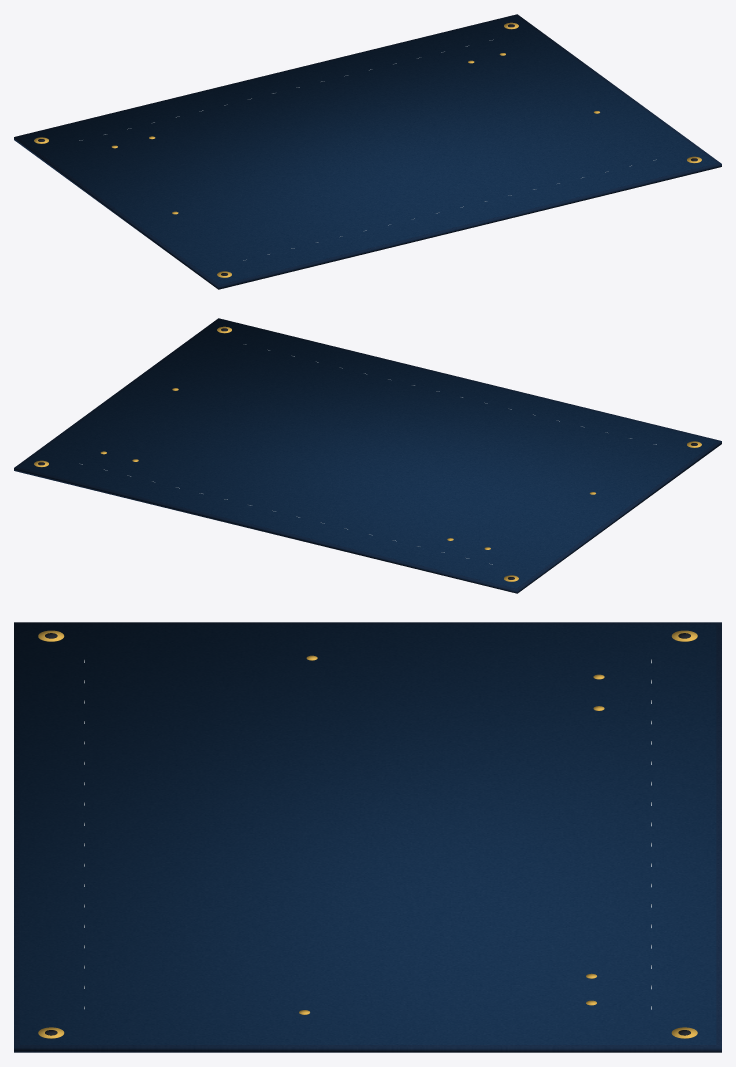
The model's file is 101_L105_PCB_ENX13_270x190mm.obj.
3 views of the same model, one above another, from view 1: azimuth 30°, elevation 25°; view 2: azimuth 150°, elevation 25°; view 3: azimuth 270°, elevation 25° (orthographic). The views are drawn at different scales.
Visible parts, largest first — view 1: PCB_ENX13_270x190mm_mask_1, PCB_ENX13_270x190mm_pcb_0; view 2: PCB_ENX13_270x190mm_mask_1, PCB_ENX13_270x190mm_pcb_0; view 3: PCB_ENX13_270x190mm_mask_1, PCB_ENX13_270x190mm_pcb_0, PCB_ENX13_270x190mm_gold_2.
Part boxes in pixels (x1,y1,x2,y2): PCB_ENX13_270x190mm_mask_1: (18,16,717,284); PCB_ENX13_270x190mm_pcb_0: (14,14,721,289); PCB_ENX13_270x190mm_mask_1: (18,320,717,588); PCB_ENX13_270x190mm_pcb_0: (14,318,721,593); PCB_ENX13_270x190mm_mask_1: (19,624,716,1044); PCB_ENX13_270x190mm_pcb_0: (14,622,721,1052); PCB_ENX13_270x190mm_gold_2: (38,630,697,1038).
Bounding box in the file's own units: 0.27 × 0.00176 × 0.19.
Materials: 5 (5 with a texture image).
